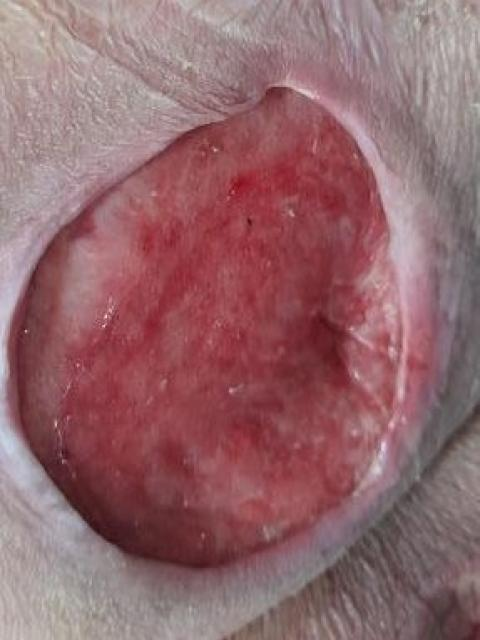wound: (5, 84, 412, 569)
